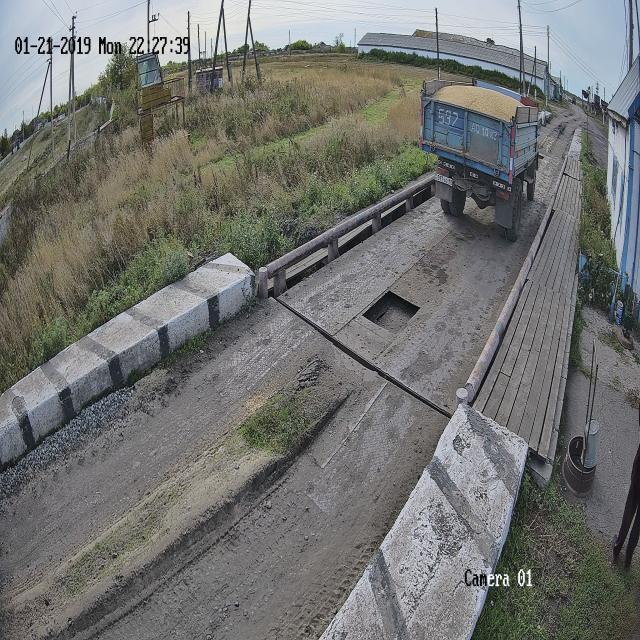license plate: (434, 173, 452, 186)
truck: (420, 80, 538, 241)
